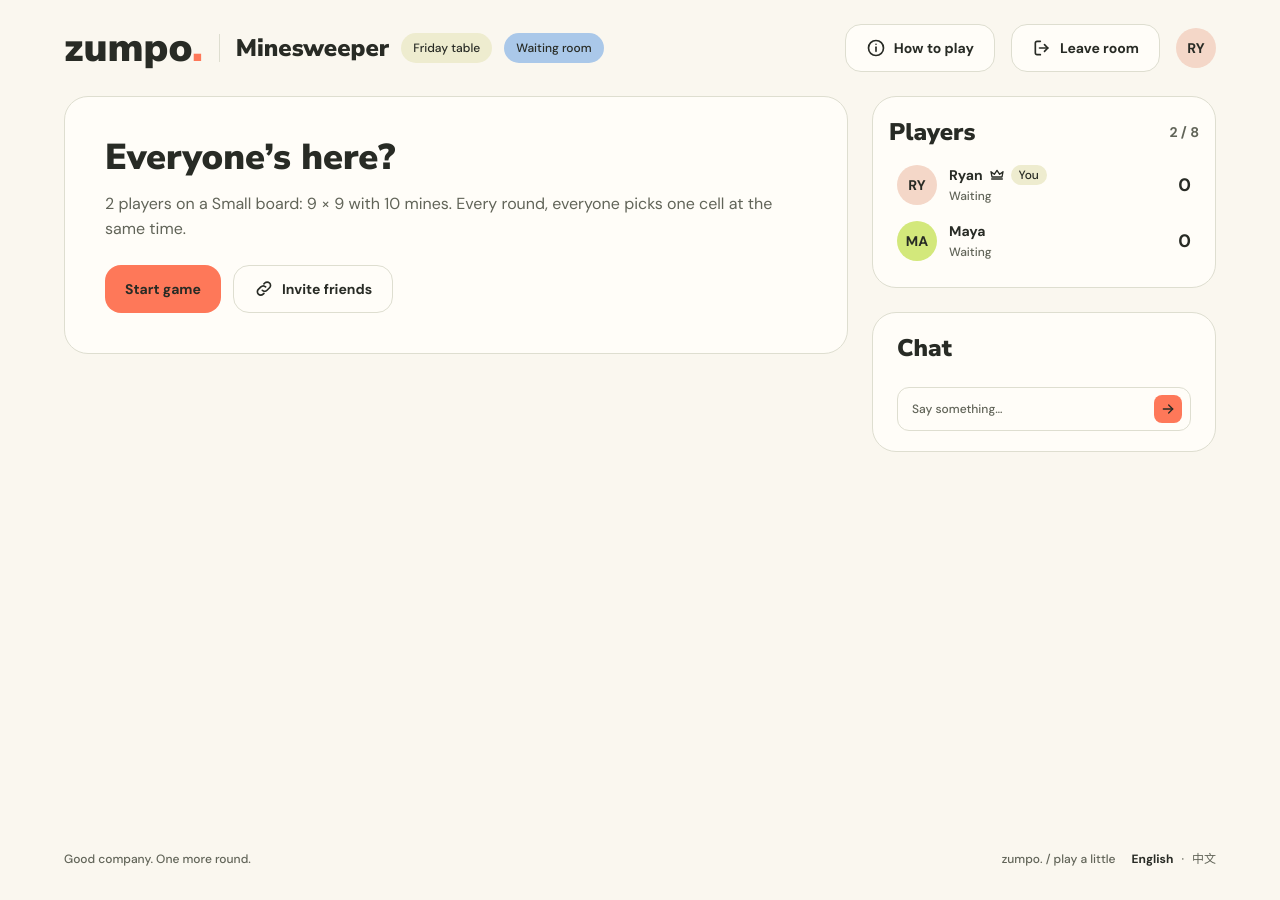
Test: a room page › shows how to play over the room, which stays
Click the button "How to play": (920, 48) [845,24,995,72]
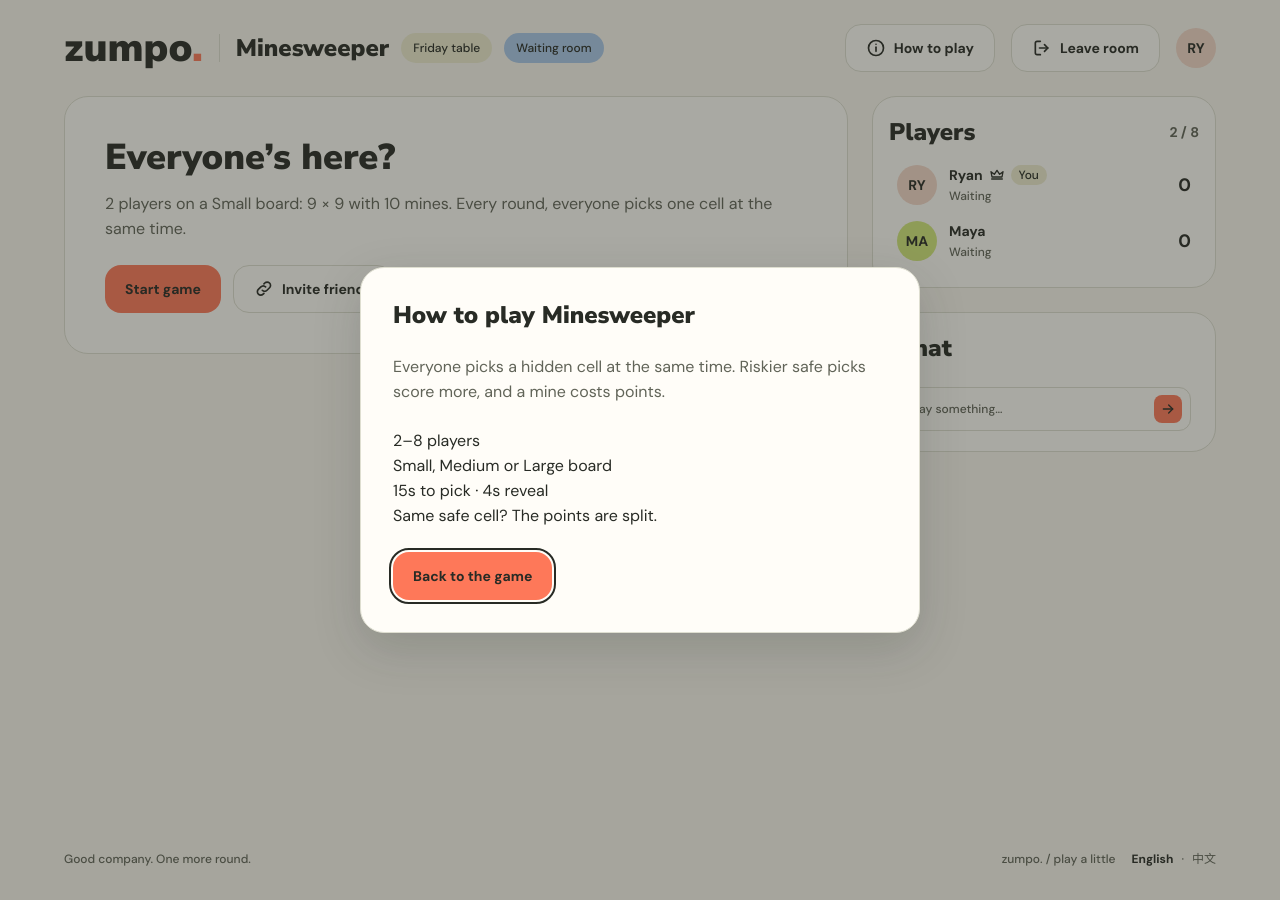
Check: the list item "2–8 players" is shown, box [393,430,480,451]
Click the button "Back to the game": (473, 576) [393,552,552,600]
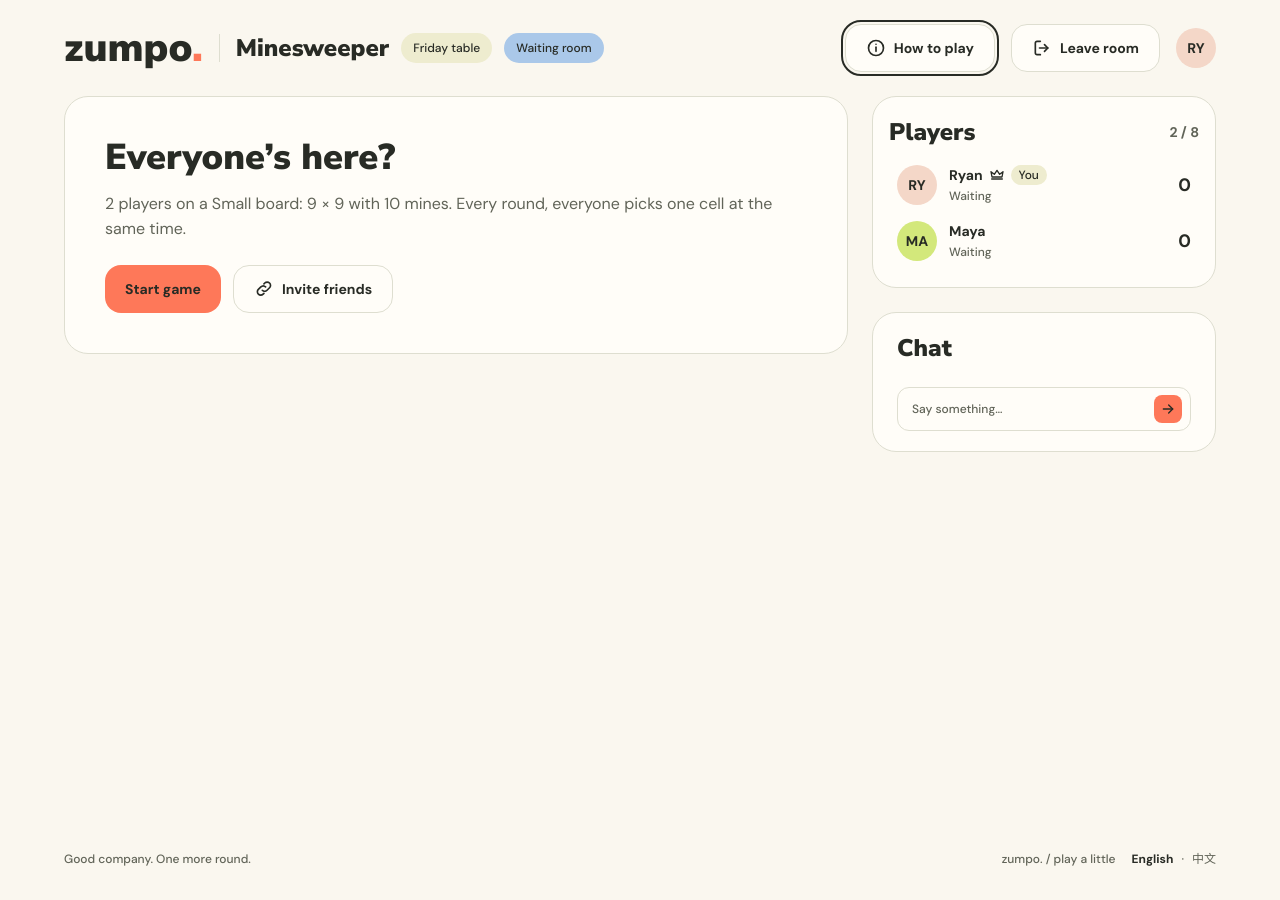
Check: the dialog is gone
